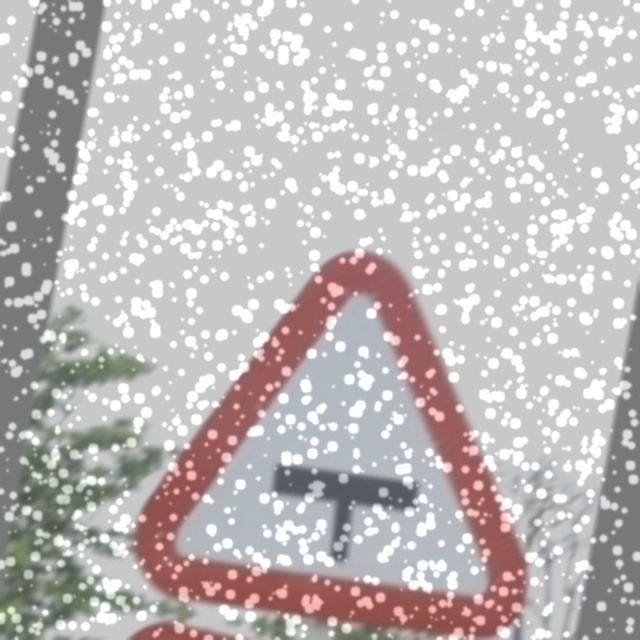T_Intersection: (135, 222, 578, 639)
